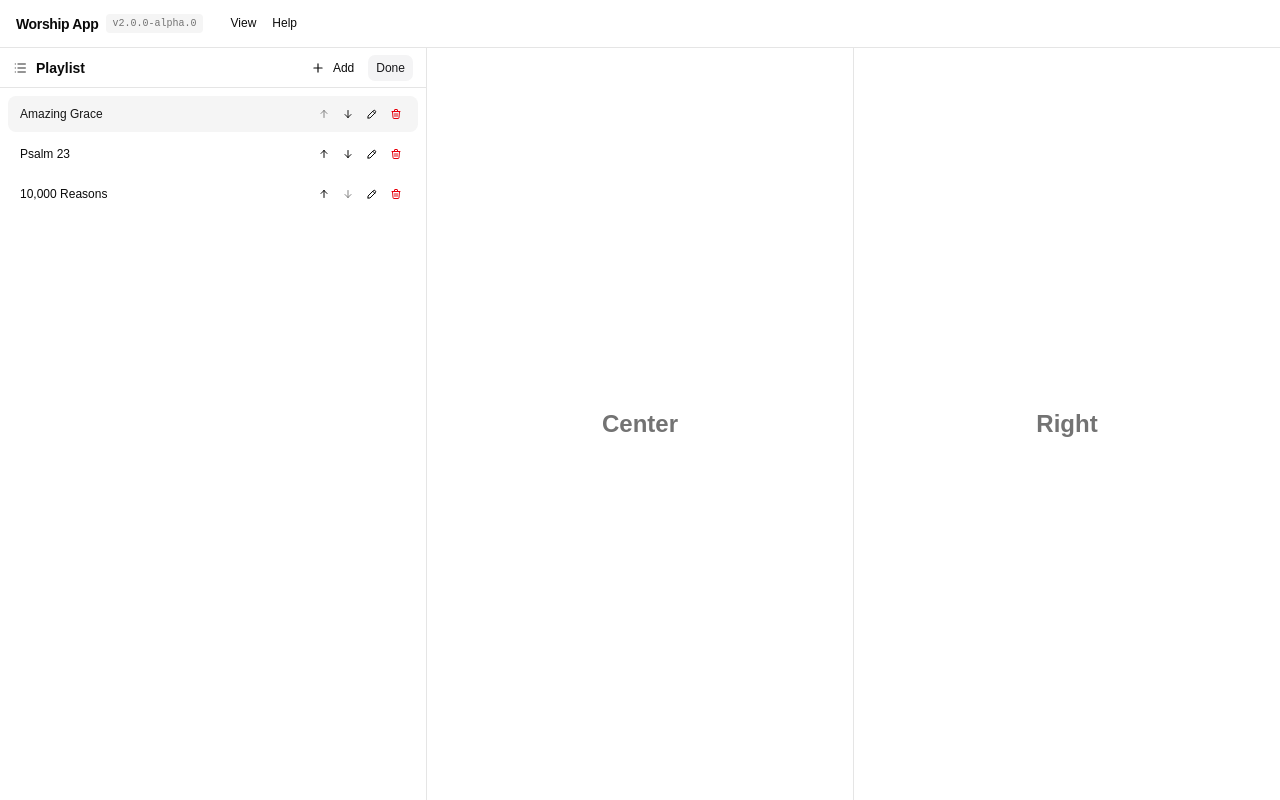
Workspace Center Panel Integration › clicking pencil button in PlaylistPanel opens editor in center panel
Expected: the text "Center" is shown, [602,408,678,440]
Click the button named "Edit item" in the row of "Psalm 23" at (372, 154), box [362,144,382,164]
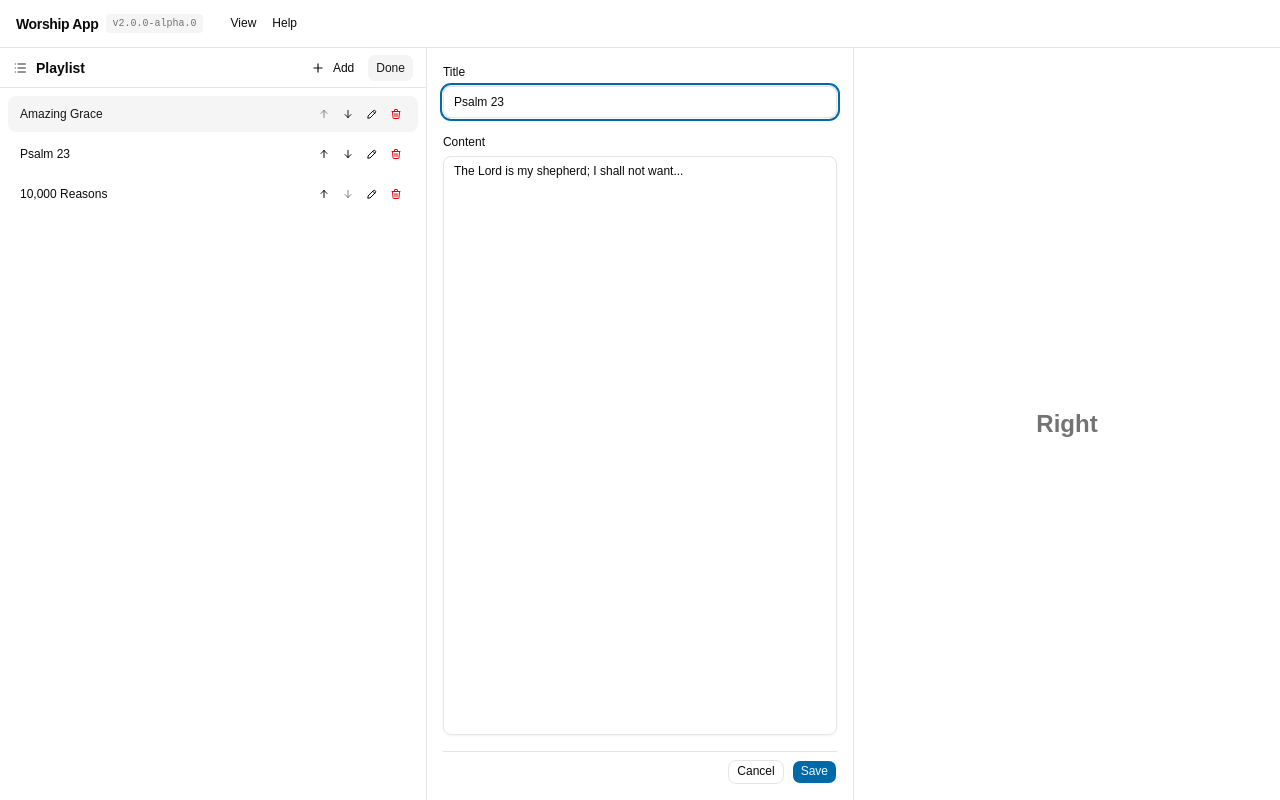
Now the text "Center" is gone
Now the form named "Edit playlist item" is shown, box [427,48,853,799]
Now the field labelled "Title" holds "Psalm 23", box [443,86,837,118]
